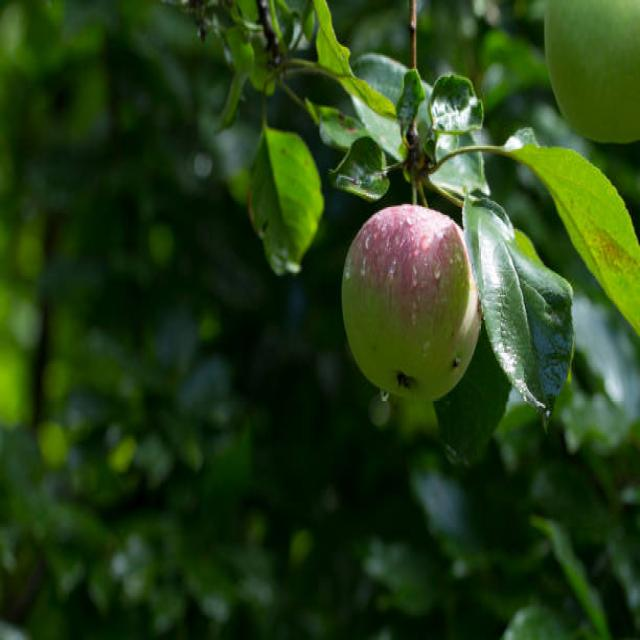Unripe: (343, 202, 483, 402)
